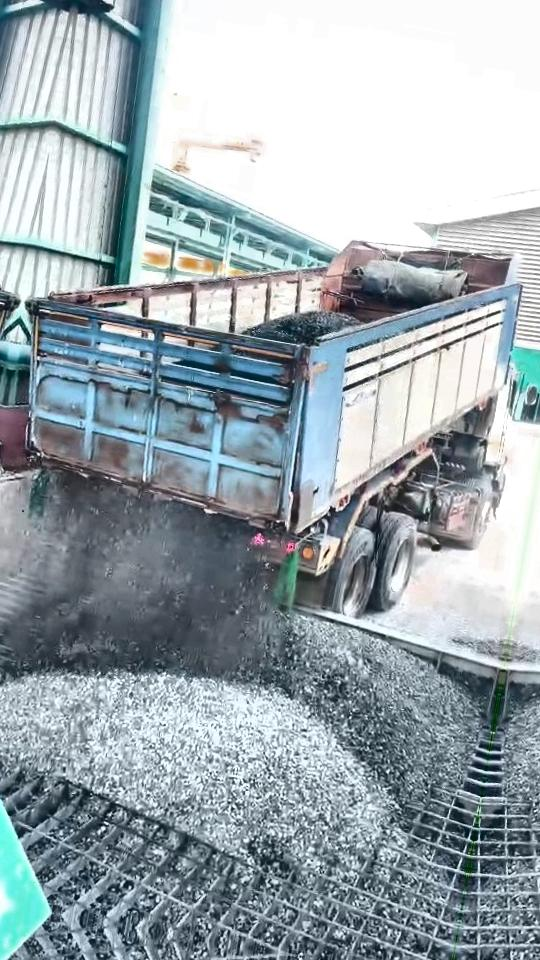gravel: (0, 671, 392, 874), (0, 474, 316, 691), (285, 614, 482, 806), (244, 310, 359, 344), (453, 636, 507, 660)
